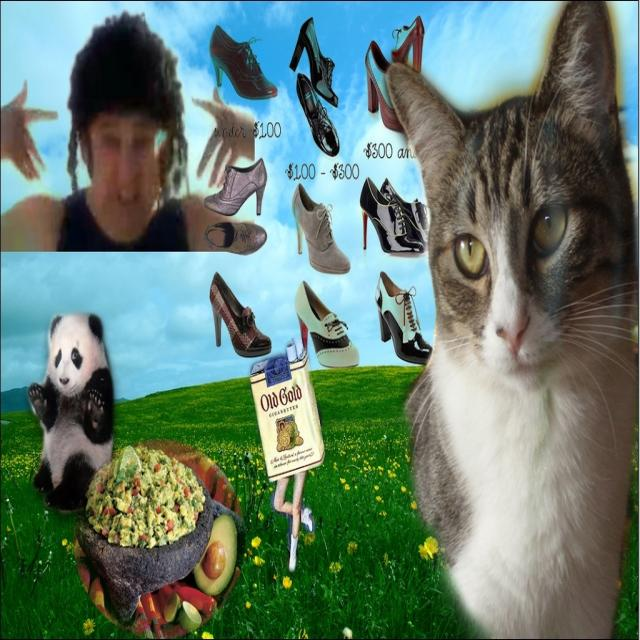panda: (23, 300, 117, 514)
